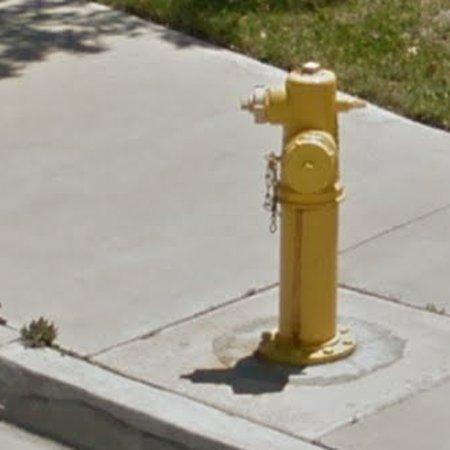a fire hydrant: (256, 63, 356, 365)
